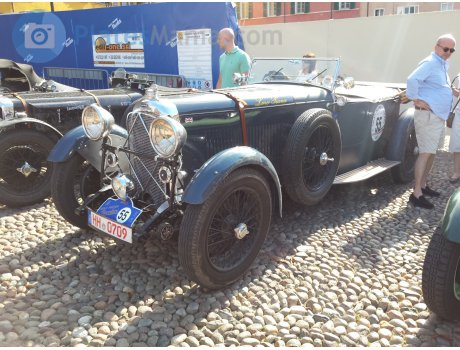License Plates: (87, 212, 125, 235)
